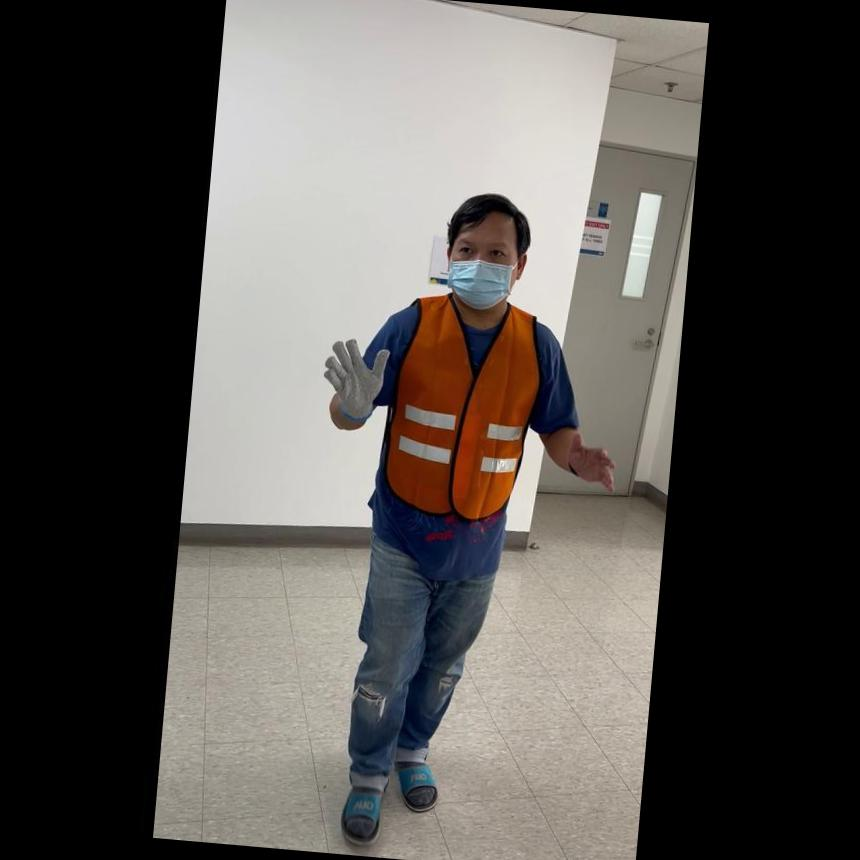Gloves: (316, 329, 392, 422)
No-gloves: (558, 428, 620, 493)
